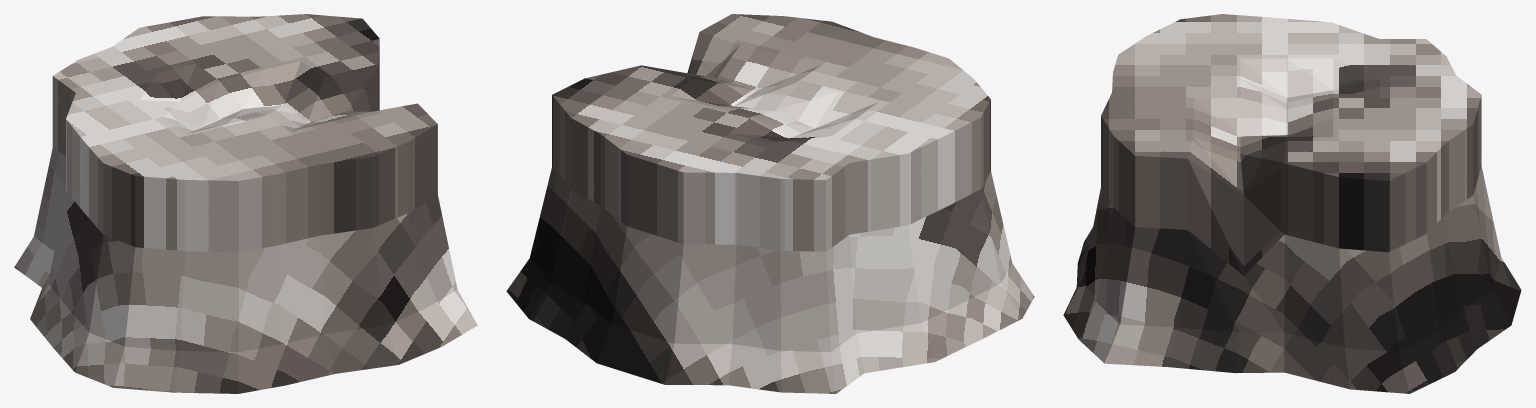
File: rock_341x05.gltf
3 views of the same model, side by side, from view 1: azimuth 30°, elevation 25°; view 2: azimuth 150°, elevation 25°; view 3: azimuth 270°, elevation 25° (orthographic).
Parts seen in each view (by area): view 1: Rock_341x5; view 2: Rock_341x5; view 3: Rock_341x5.
Boxes of the visible parts, left/top/right/bottom form: Rock_341x5: left=14, top=14, right=477, bottom=393; Rock_341x5: left=506, top=14, right=1034, bottom=393; Rock_341x5: left=1063, top=14, right=1521, bottom=393.
Size of the model in its own units: 1.63 by 0.7422 by 1.57.
Materials: 1 (1 with a texture image).
